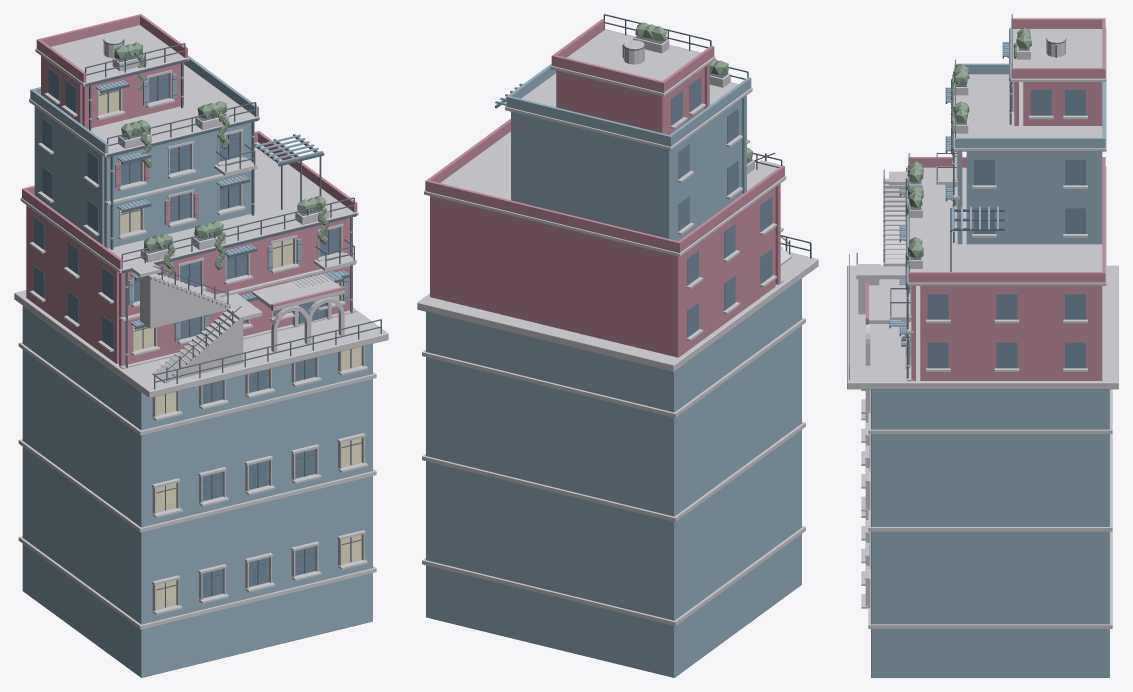
Rendered from LayeredGalleryQuarter.fbx.
3 renders of one model, left to right at view 1: azimuth 30°, elevation 25°; view 2: azimuth 150°, elevation 25°; view 3: azimuth 270°, elevation 25°, orthographic. The views are drawn at different scales.
Visible parts, largest first — view 1: LayeredGalleryQuarter_LM_Mineral, LayeredGalleryQuarter_LM_Stone, LayeredGalleryQuarter_LM_Pomegranate, LayeredGalleryQuarter_LM_Glass, LayeredGalleryQuarter_LM_Ink, LayeredGalleryQuarter_LM_Window, LayeredGalleryQuarter_LM_Leaf; view 2: LayeredGalleryQuarter_LM_Mineral, LayeredGalleryQuarter_LM_Pomegranate, LayeredGalleryQuarter_LM_Stone, LayeredGalleryQuarter_LM_Glass, LayeredGalleryQuarter_LM_Ink, LayeredGalleryQuarter_LM_Leaf; view 3: LayeredGalleryQuarter_LM_Mineral, LayeredGalleryQuarter_LM_Stone, LayeredGalleryQuarter_LM_Pomegranate, LayeredGalleryQuarter_LM_Glass, LayeredGalleryQuarter_LM_Ink, LayeredGalleryQuarter_LM_Leaf.
Part boxes in pixels (box(x1,y1,x2,y2)): LayeredGalleryQuarter_LM_Mineral: box(22, 55, 372, 677); LayeredGalleryQuarter_LM_Stone: box(14, 25, 388, 629); LayeredGalleryQuarter_LM_Pomegranate: box(22, 14, 357, 366); LayeredGalleryQuarter_LM_Glass: box(34, 68, 339, 598); LayeredGalleryQuarter_LM_Ink: box(85, 38, 381, 607); LayeredGalleryQuarter_LM_Window: box(99, 89, 361, 609); LayeredGalleryQuarter_LM_Leaf: box(114, 42, 329, 277); LayeredGalleryQuarter_LM_Mineral: box(426, 63, 801, 677); LayeredGalleryQuarter_LM_Pomegranate: box(425, 19, 784, 357); LayeredGalleryQuarter_LM_Stone: box(417, 29, 818, 625); LayeredGalleryQuarter_LM_Glass: box(671, 77, 772, 337); LayeredGalleryQuarter_LM_Ink: box(495, 14, 811, 258); LayeredGalleryQuarter_LM_Leaf: box(635, 22, 752, 161); LayeredGalleryQuarter_LM_Mineral: box(871, 42, 1109, 677); LayeredGalleryQuarter_LM_Stone: box(847, 27, 1118, 628); LayeredGalleryQuarter_LM_Pomegranate: box(865, 18, 1105, 380); LayeredGalleryQuarter_LM_Glass: box(869, 90, 1085, 555); LayeredGalleryQuarter_LM_Ink: box(849, 14, 1066, 379); LayeredGalleryQuarter_LM_Leaf: box(905, 27, 1031, 290).
Size of the model in its own units: 18.6 by 41.76 by 18.2.
